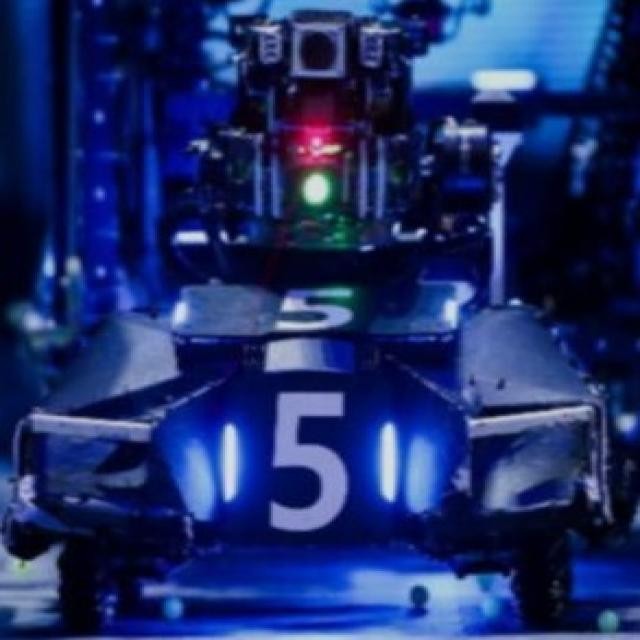B5: (220, 389, 400, 532)
